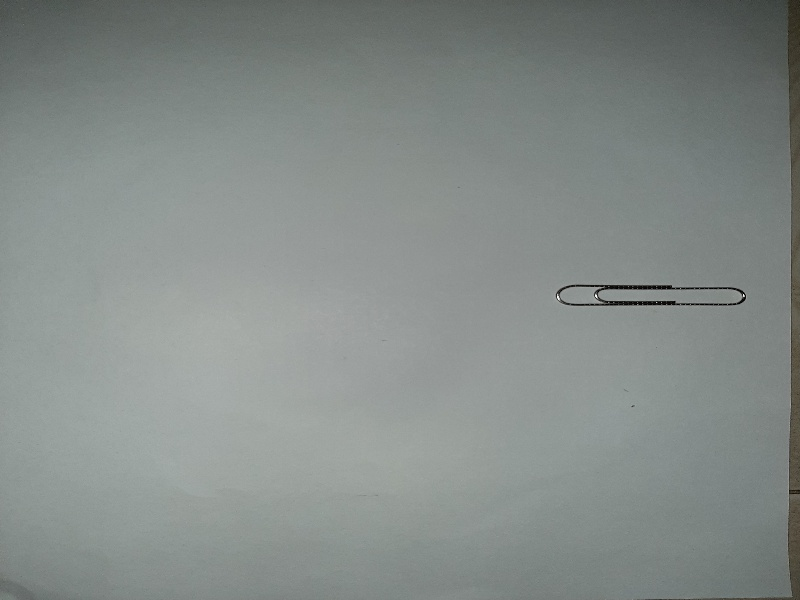Big Jumpclip: (548, 271, 758, 318)
